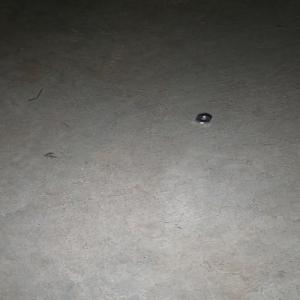Nut: (195, 114, 212, 124)
